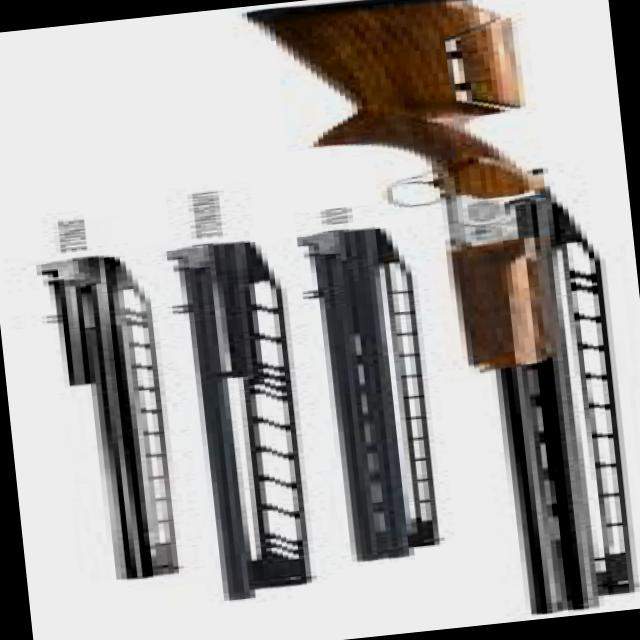long weapon: (206, 0, 640, 622)
